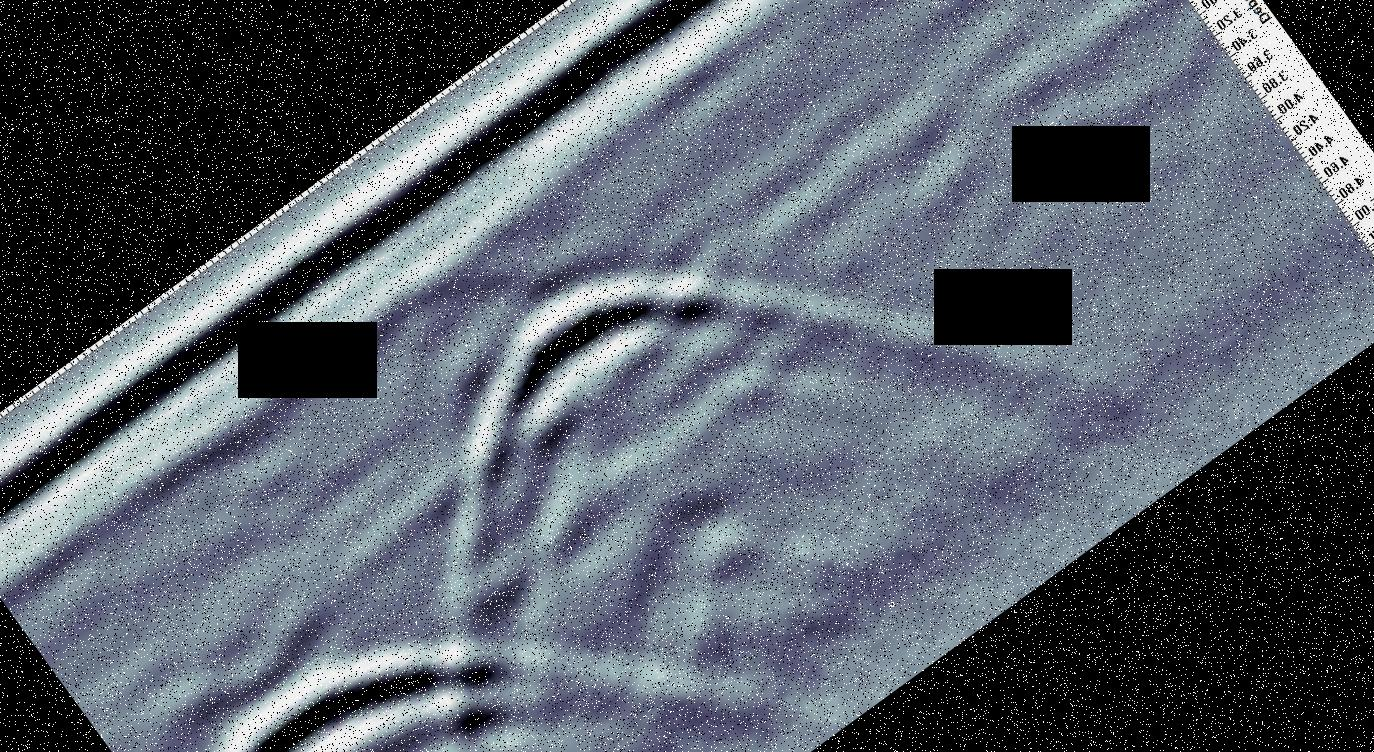Hyperbola: (97, 0, 1232, 752), (71, 388, 778, 752)
